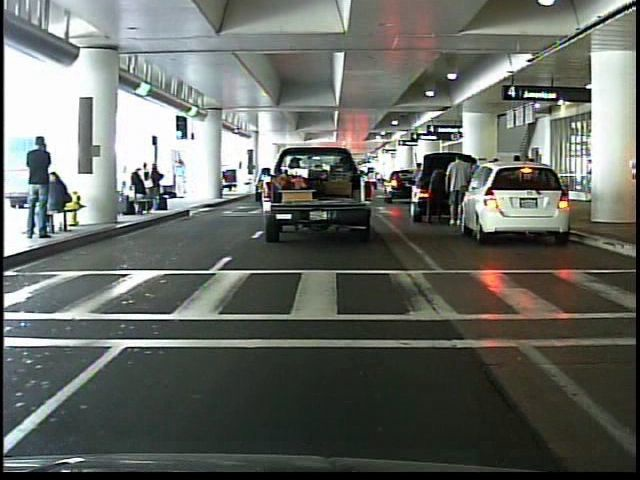person: (23, 134, 60, 244), (444, 151, 468, 226), (408, 158, 430, 213), (172, 159, 190, 201)
